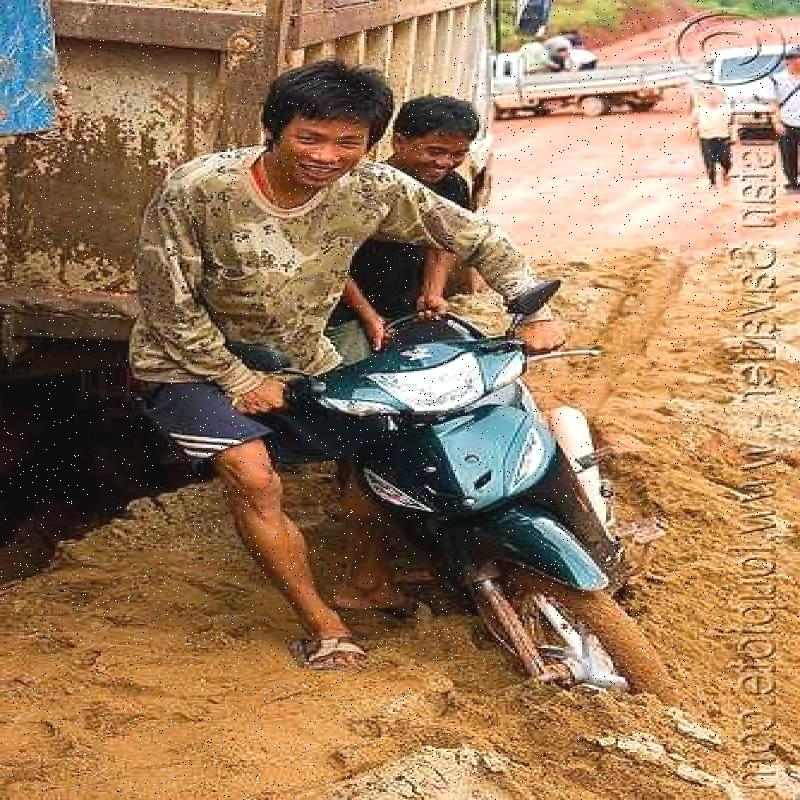bike: (271, 274, 629, 709)
